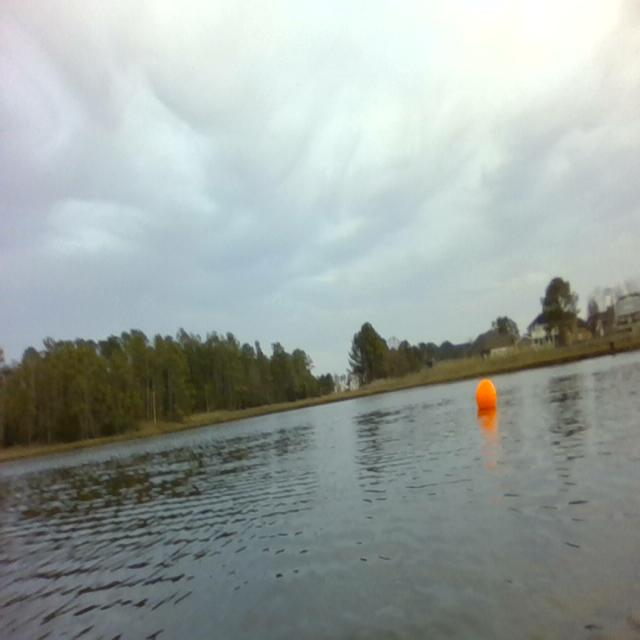Buoy: (474, 376, 498, 414)
